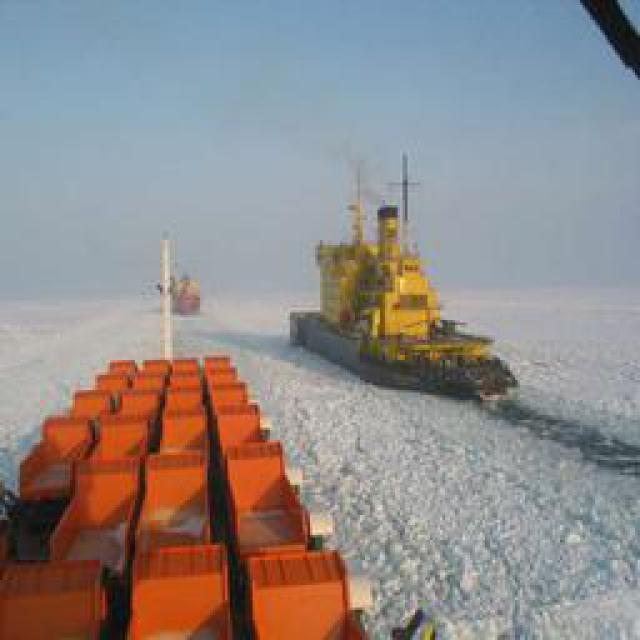Ship: (292, 143, 524, 428)
